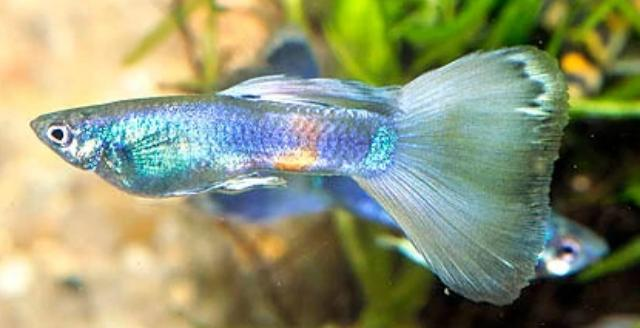Mulut: (16, 106, 72, 176)
Sirip Anal: (218, 163, 294, 208)
Sirip Dada: (100, 116, 200, 193)
Sirip Ekor: (352, 34, 586, 314)
Sirip Punggung: (212, 59, 410, 129)
